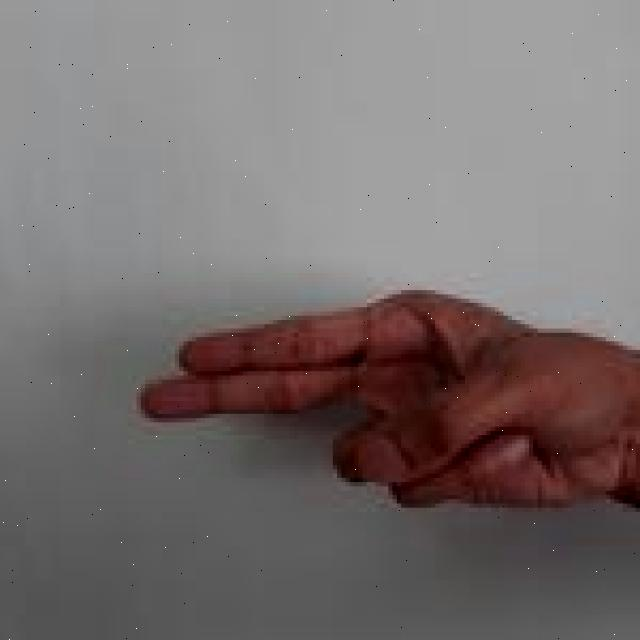H: (130, 286, 640, 519)
